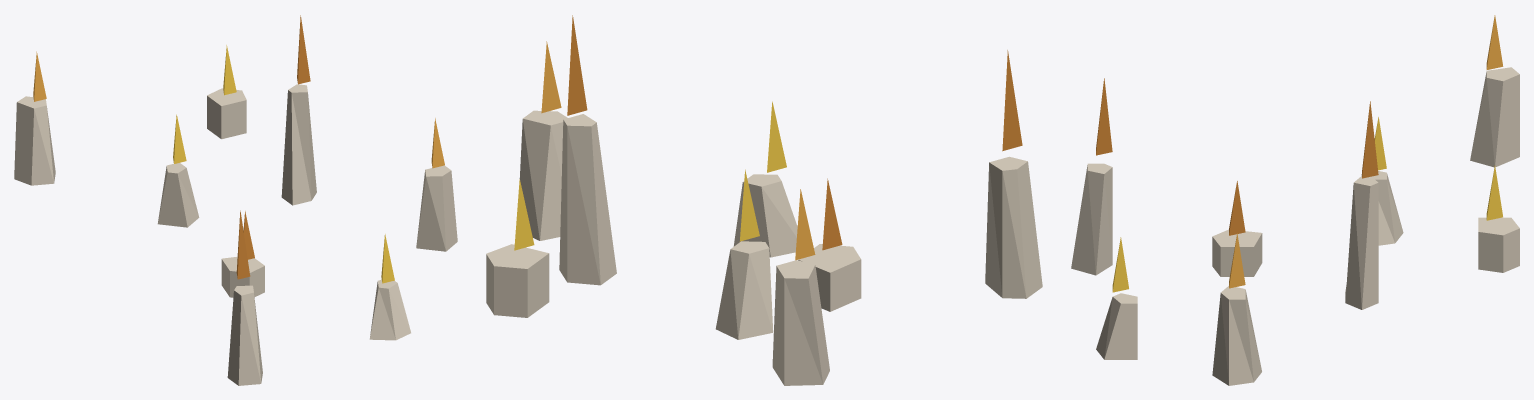
3 views of the same model, side by side, from view 1: azimuth 30°, elevation 25°; view 2: azimuth 150°, elevation 25°; view 3: azimuth 270°, elevation 25° (orthographic). The views are drawn at different scales.
Bounding box in the file's own units: 51 × 35 × 54.
Materials: 1 (1 with a texture image).
